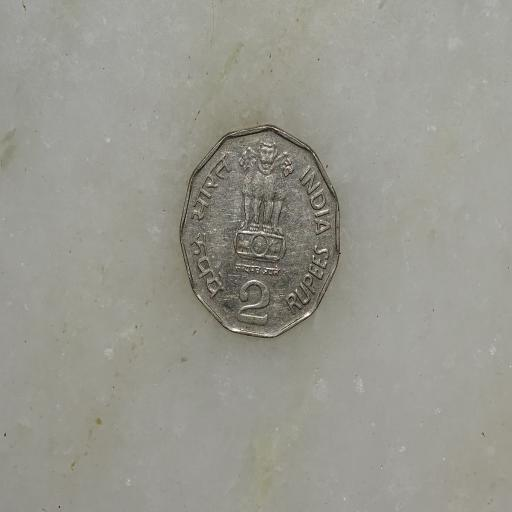rupee2: (178, 126, 344, 337)
